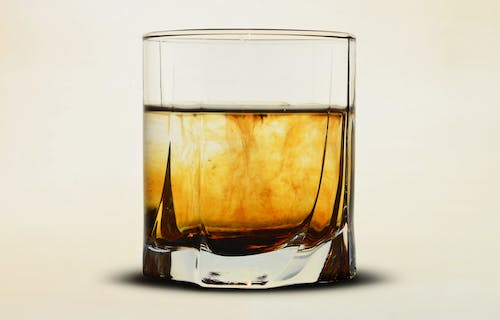alcohol: (140, 26, 358, 290)
